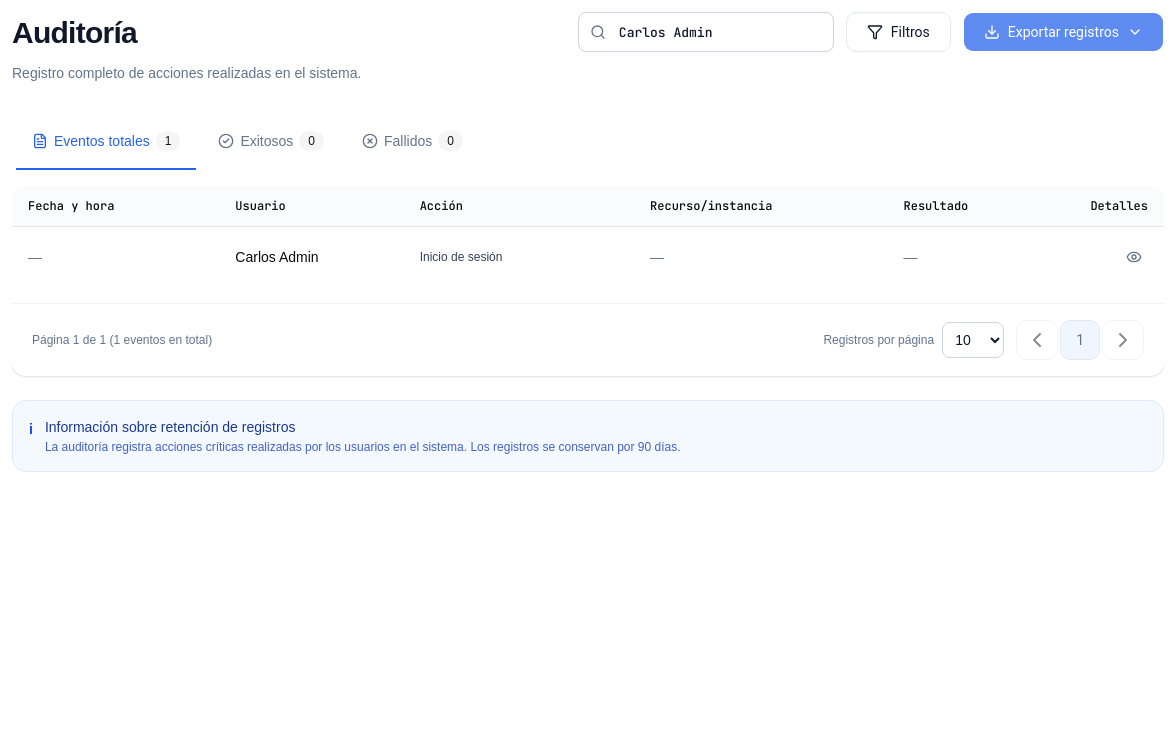
Test case: AuditoriaPage › busca por el nombre recibido al navegar sin seleccionar al usuario en Filtros
This screenshot has width=1176, height=732.
Expected: the field named "Buscar en auditoría" holds "Carlos Admin", x1=578 y1=12 x2=834 y2=52
Expected: the text "Carlos Admin" is shown, x1=235 y1=249 x2=319 y2=265
Step 1. Click the button "Filtros" → (898,32), box x1=846 y1=12 x2=951 y2=52
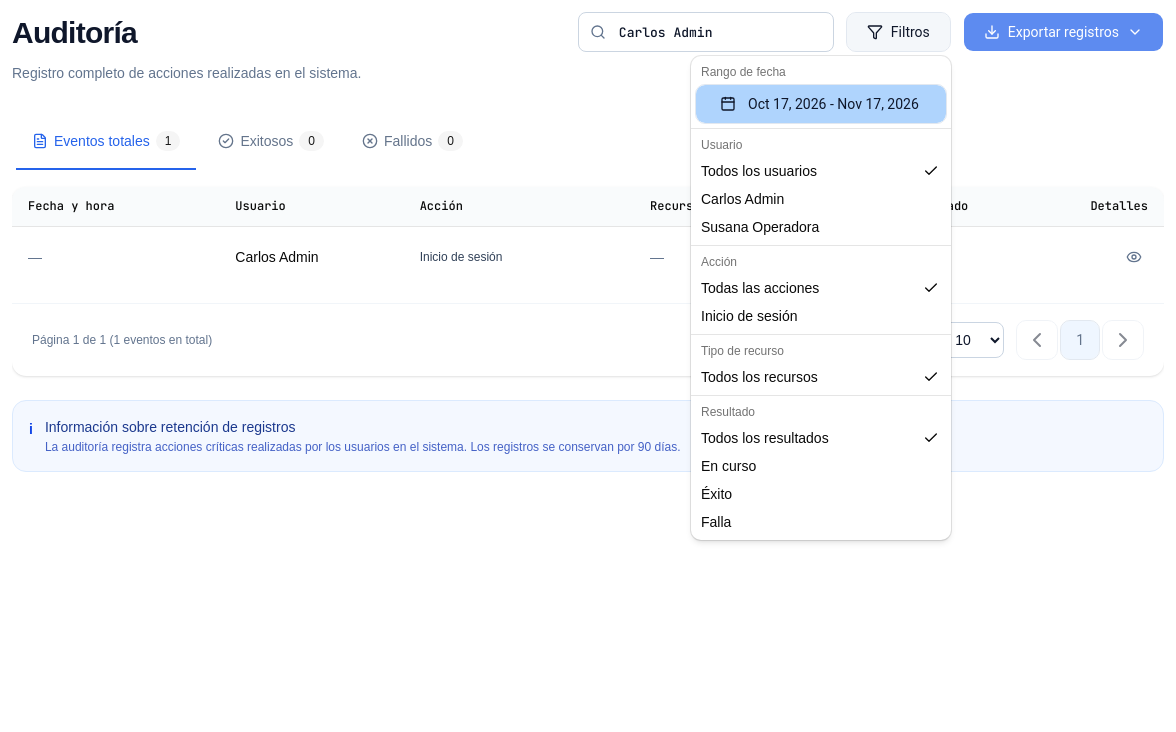
Step 2. Press Escape
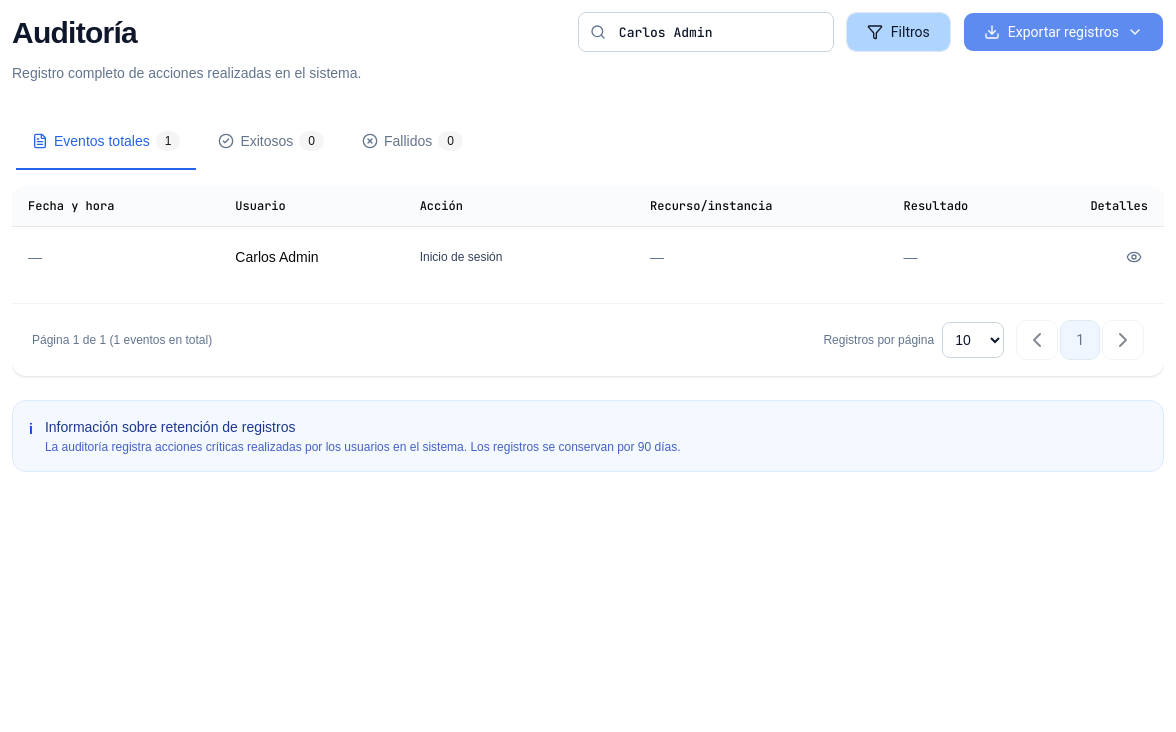
Step 3. Clear the field named "Buscar en auditoría" → (706,32), box x1=578 y1=12 x2=834 y2=52
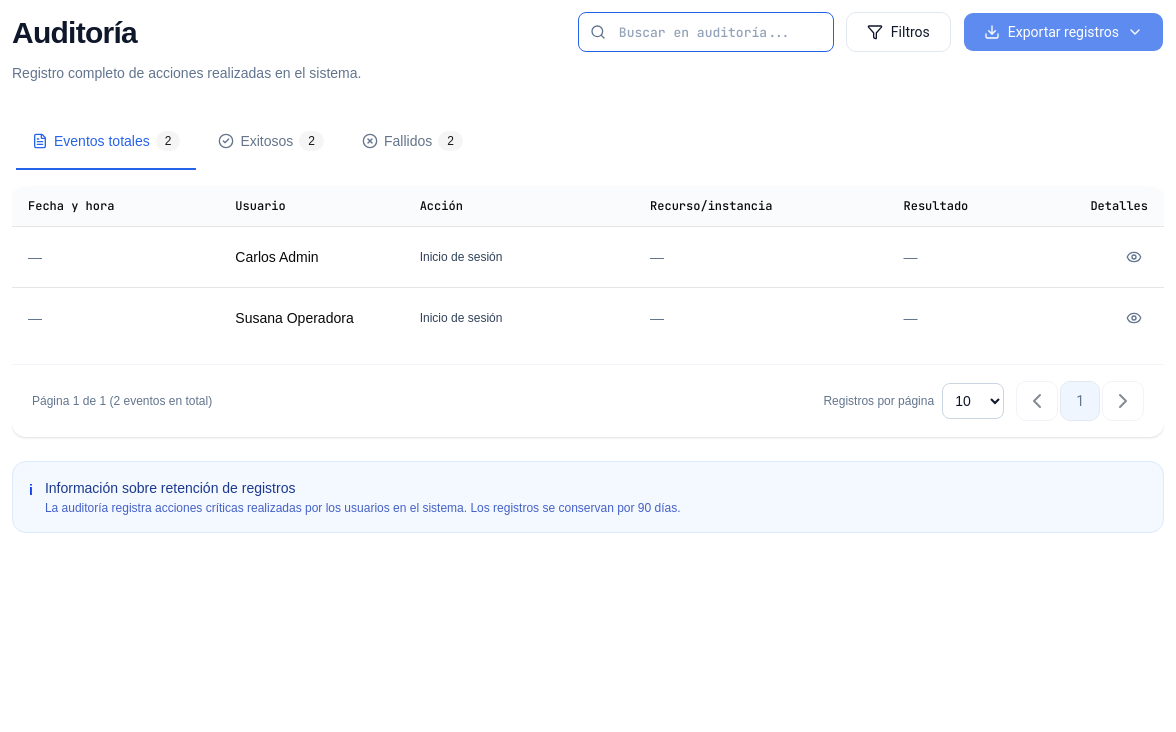
Now the text "Susana Operadora" is shown, box x1=235 y1=310 x2=354 y2=326
